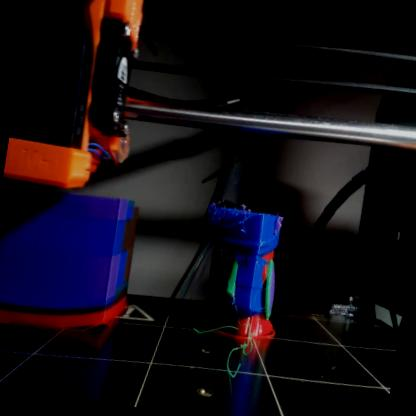fail: (202, 201, 252, 241), (225, 331, 253, 381)
